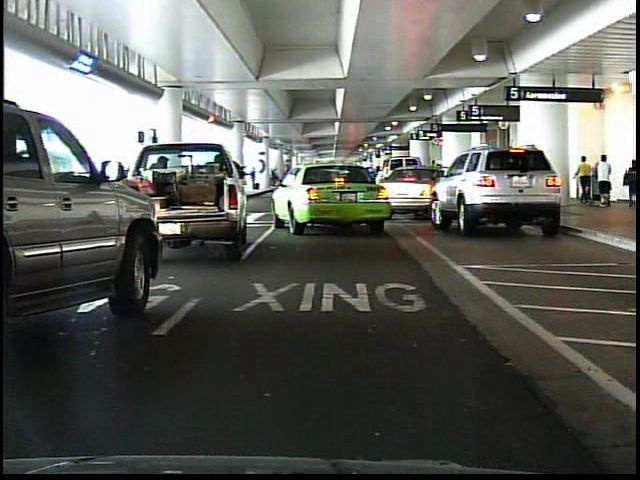person: (597, 152, 615, 208), (618, 159, 636, 211), (577, 156, 594, 207)
